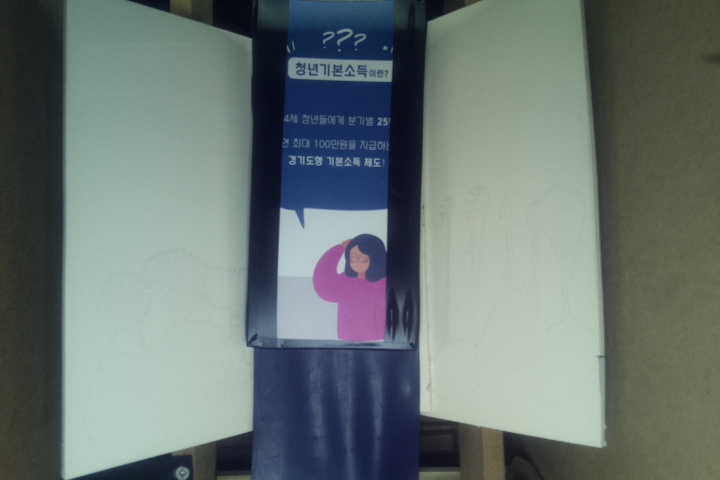book: (246, 1, 430, 354)
